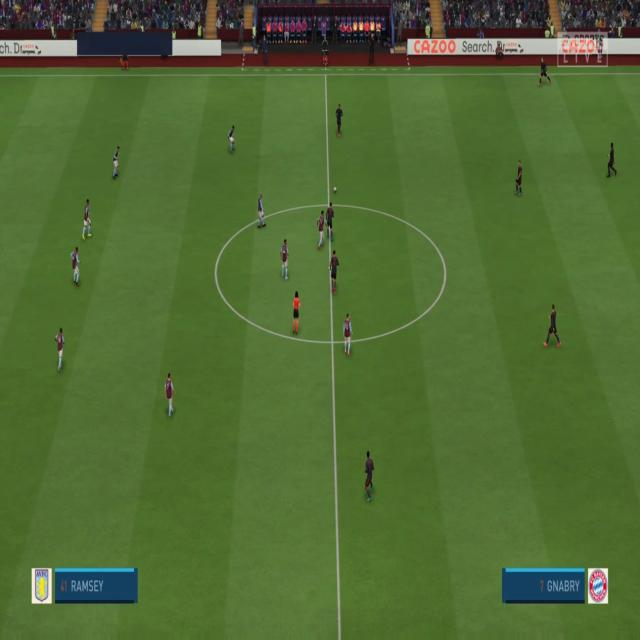Ball: (333, 184, 338, 197)
Referee: (291, 292, 301, 336)
Team-A: (544, 304, 560, 347), (363, 450, 376, 502), (329, 249, 340, 293), (605, 143, 617, 180), (514, 159, 524, 196), (326, 202, 335, 240), (539, 59, 552, 84), (335, 106, 344, 138)
Team-H: (53, 327, 66, 373), (165, 374, 176, 418), (81, 199, 92, 241), (278, 239, 289, 280), (71, 246, 82, 286), (254, 193, 266, 229), (344, 314, 354, 356), (316, 210, 326, 252), (113, 146, 123, 181), (228, 124, 238, 154)
